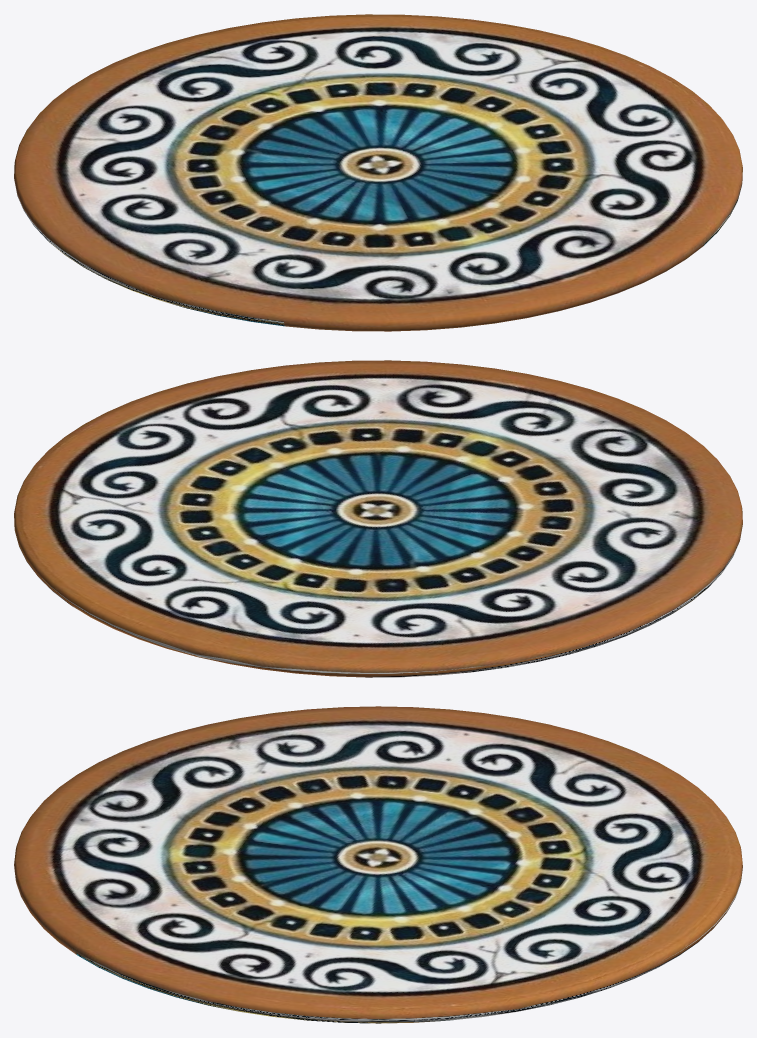
Rendered from factory.glb.
3 views of the same model, one above another, from view 1: azimuth 30°, elevation 25°; view 2: azimuth 150°, elevation 25°; view 3: azimuth 270°, elevation 25° (orthographic).
Visible parts, largest first — view 1: Factory; view 2: Factory; view 3: Factory.
Boxes of the visible parts, left/top/right/bottom form: Factory: left=14, top=14, right=742, bottom=331; Factory: left=14, top=360, right=742, bottom=677; Factory: left=14, top=706, right=742, bottom=1023.
Size of the model in its own units: 0.5869 by 0.0144 by 0.5868.
Materials: 1 (1 with a texture image).
